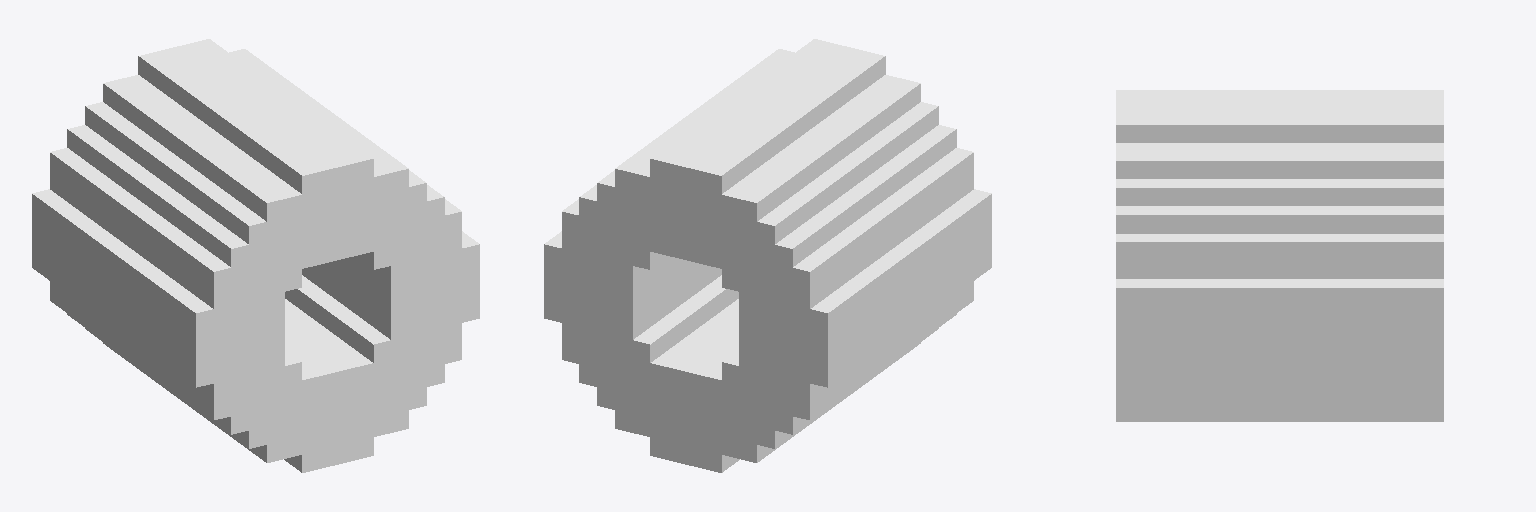
The model's file is Wheel.obj.
The picture shows the model from 3 angles: view 1: azimuth 30°, elevation 25°; view 2: azimuth 150°, elevation 25°; view 3: azimuth 270°, elevation 25°; orthographic projection.
Visible parts, largest first — view 1: object 1; view 2: object 1; view 3: object 1.
Part boxes in pixels (bbox=[...]): object 1: bbox=[32, 39, 479, 472]; object 1: bbox=[544, 39, 991, 472]; object 1: bbox=[1116, 90, 1443, 421].
Size of the model in its own units: 1.6 by 1.6 by 1.6.